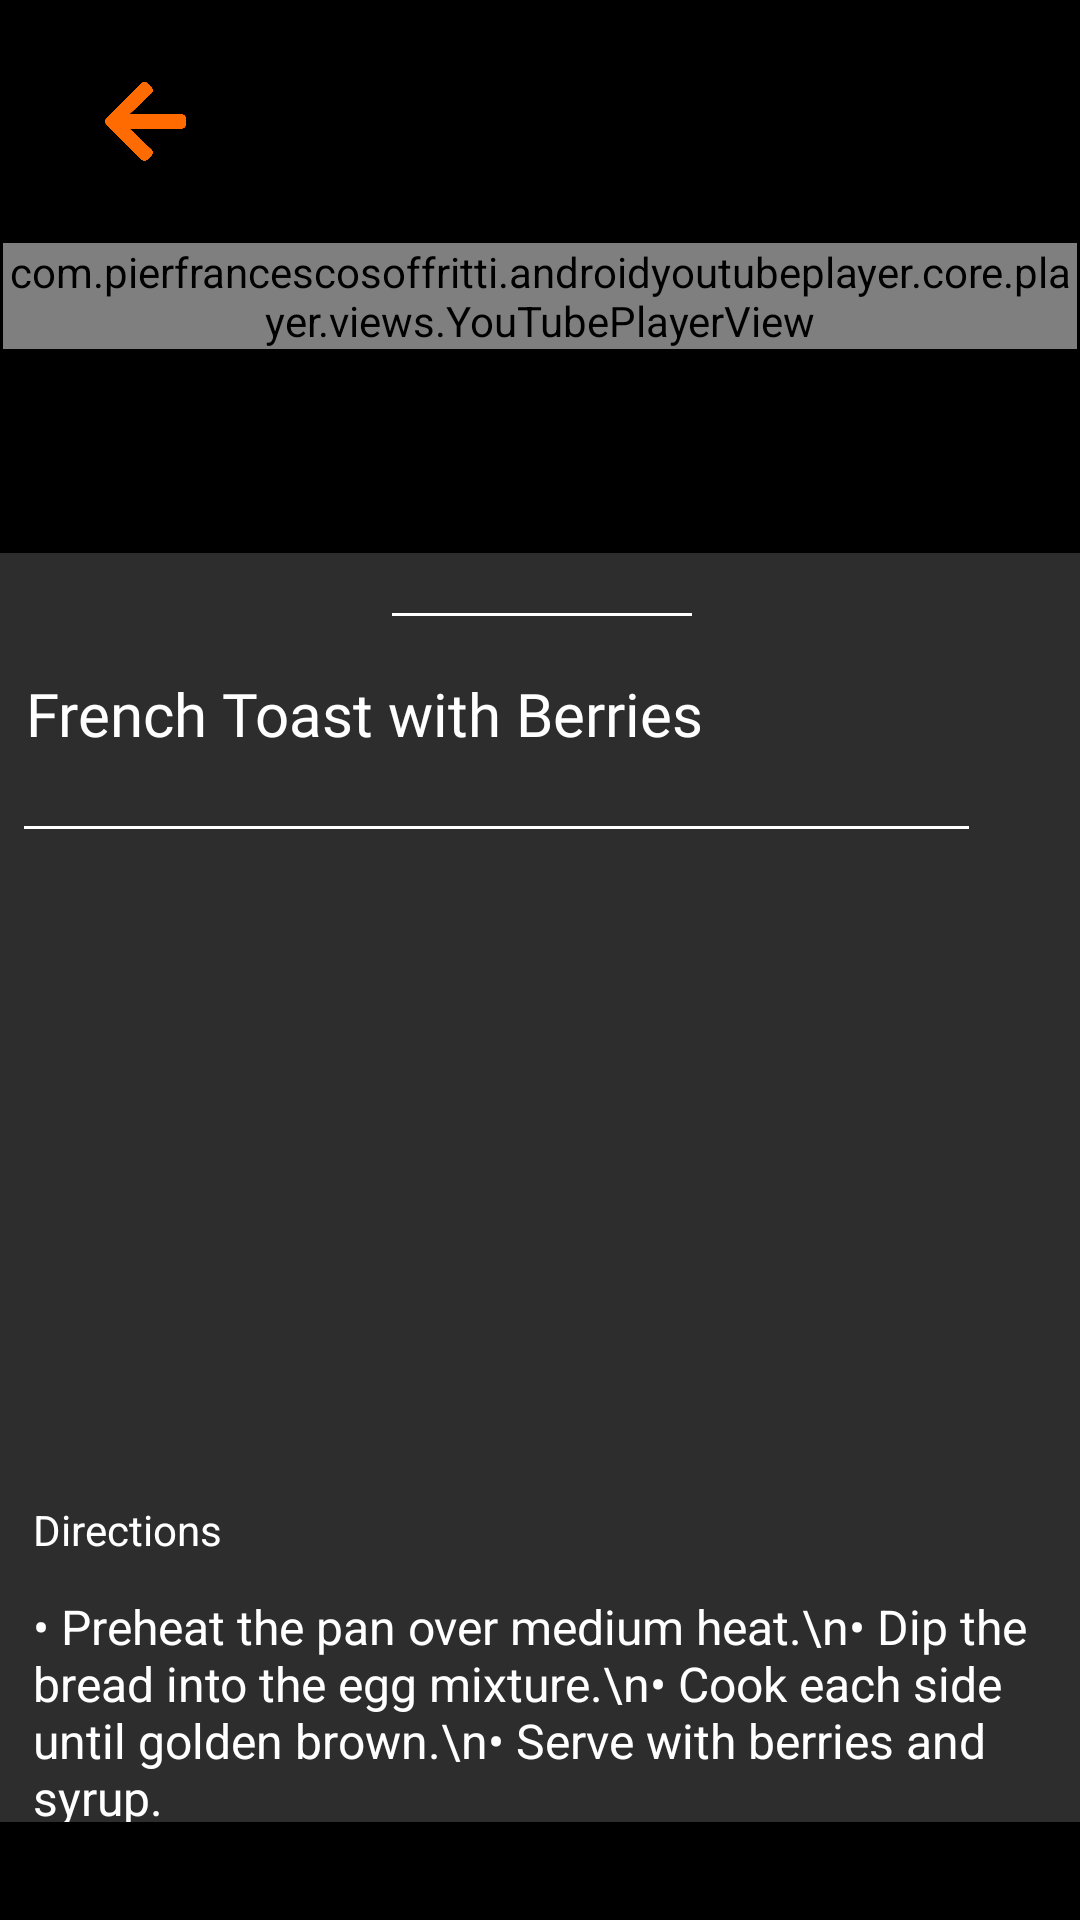

Screen size 1080×1920. Icon name, then its box in pixels as (x1, y1, x2, y2):
back: (105, 82, 186, 161)
